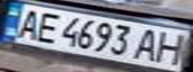3: (109, 22, 136, 58)
4: (54, 16, 81, 48)
6: (75, 17, 96, 51)
9: (90, 20, 115, 55)
A: (133, 26, 163, 63), (12, 7, 45, 39)
E: (30, 10, 63, 44)
H: (151, 29, 190, 65)
